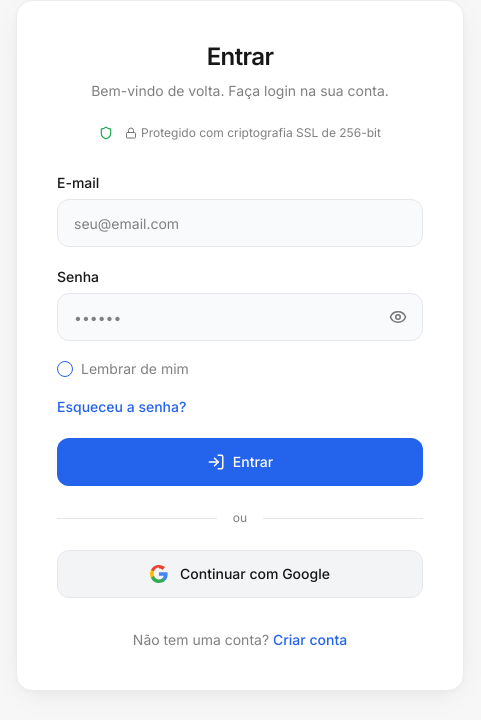
Test: LoginForm › exibe mensagem de erro do servidor
This screenshot has width=481, height=720.
Type "teste@email.com" into the field labelled "E-mail". click: (240, 223)
box: [57,199,423,247]
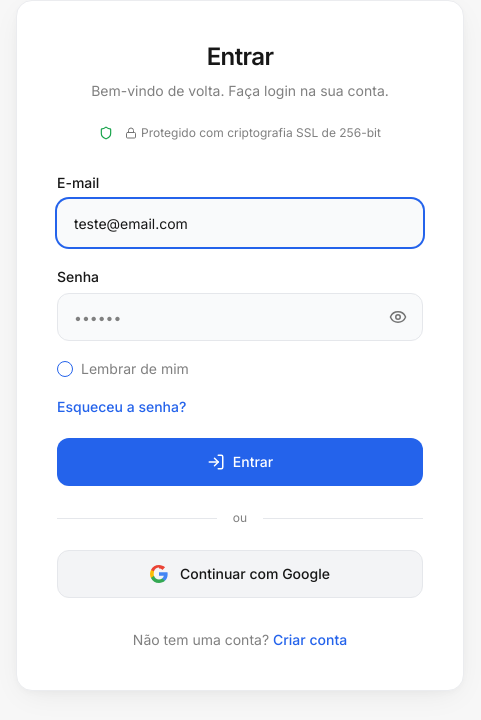
Type "TestPassword123!" into the password field labelled "Senha". click: (240, 317)
box: [57,293,423,341]
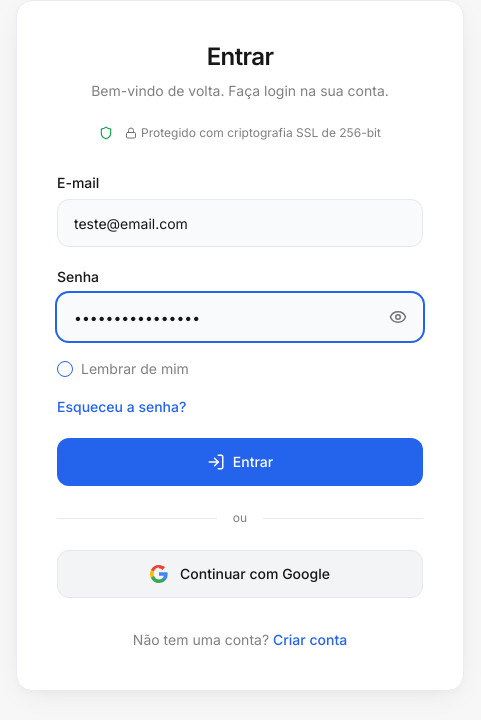
Click the button "Entrar". click: (240, 462)
box: [57,438,423,486]
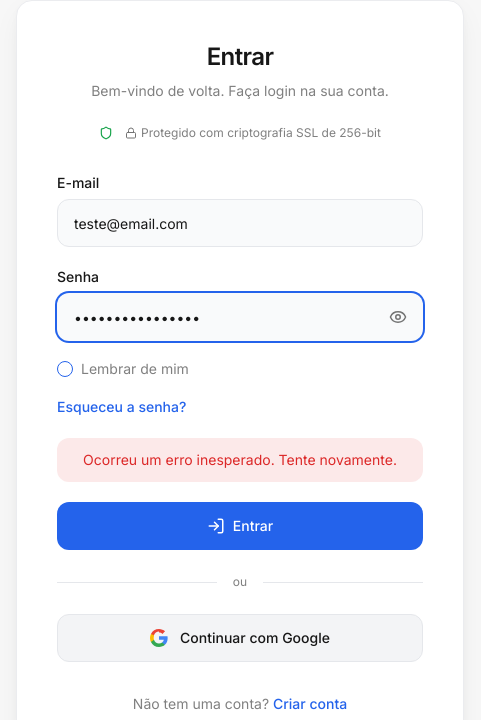
Expected: the message "Ocorreu um erro inesperado. Tente novamente." is shown, [57,438,423,482]
